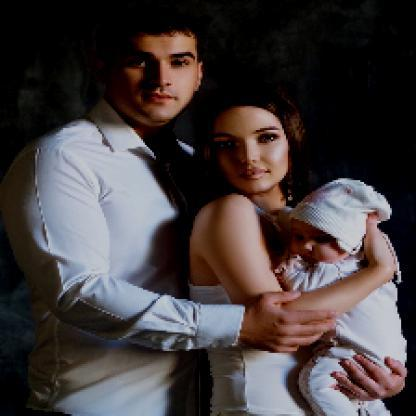child: (269, 178, 412, 416)
